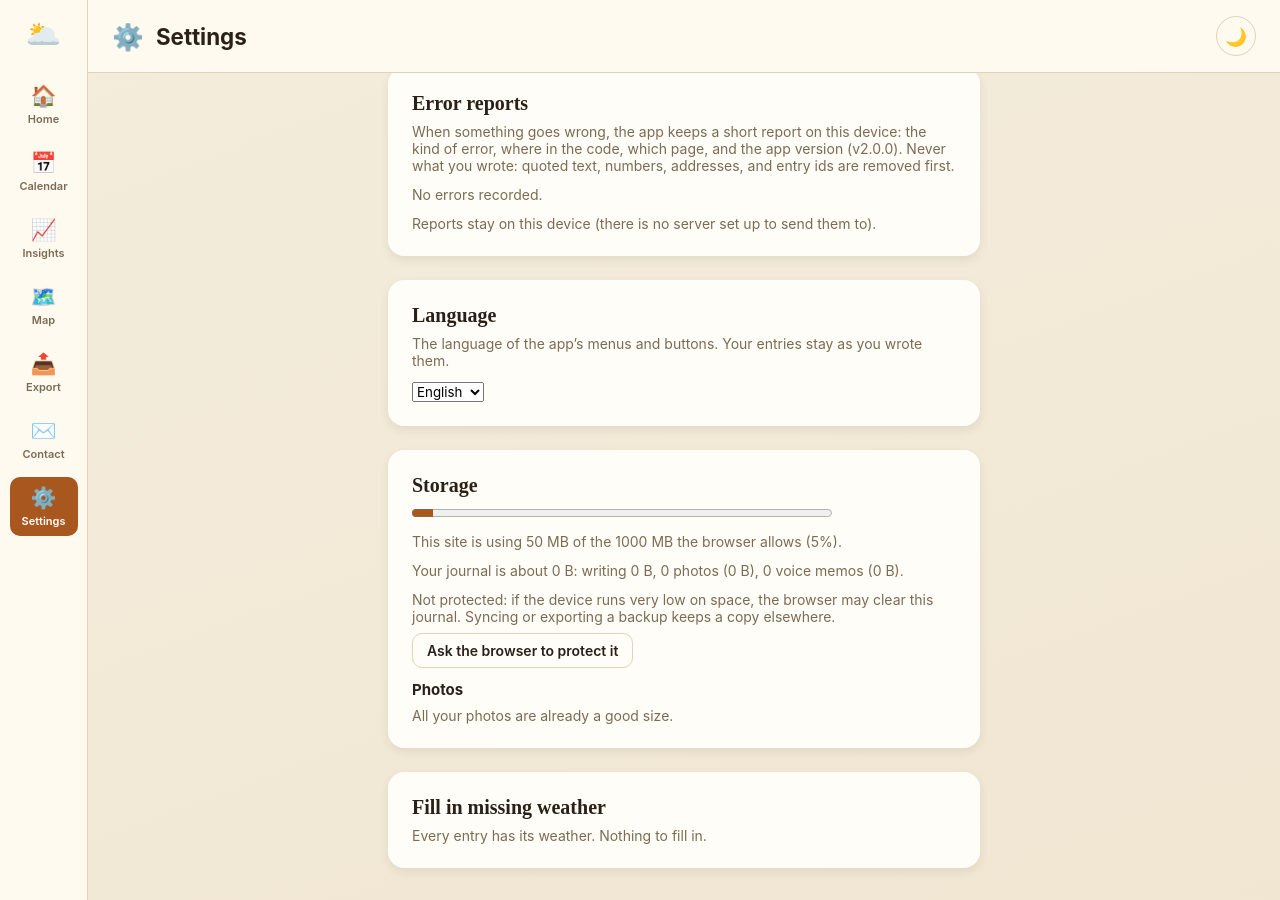
Test: Storage settings › offers to protect the journal from being cleared, and reports the answer
(page scrolled)
Expected: the text "Not protected" is shown, [412,591,933,625]
Click the button "Ask the browser to protect it": (523, 650) [412,633,633,668]
(page scrolled)
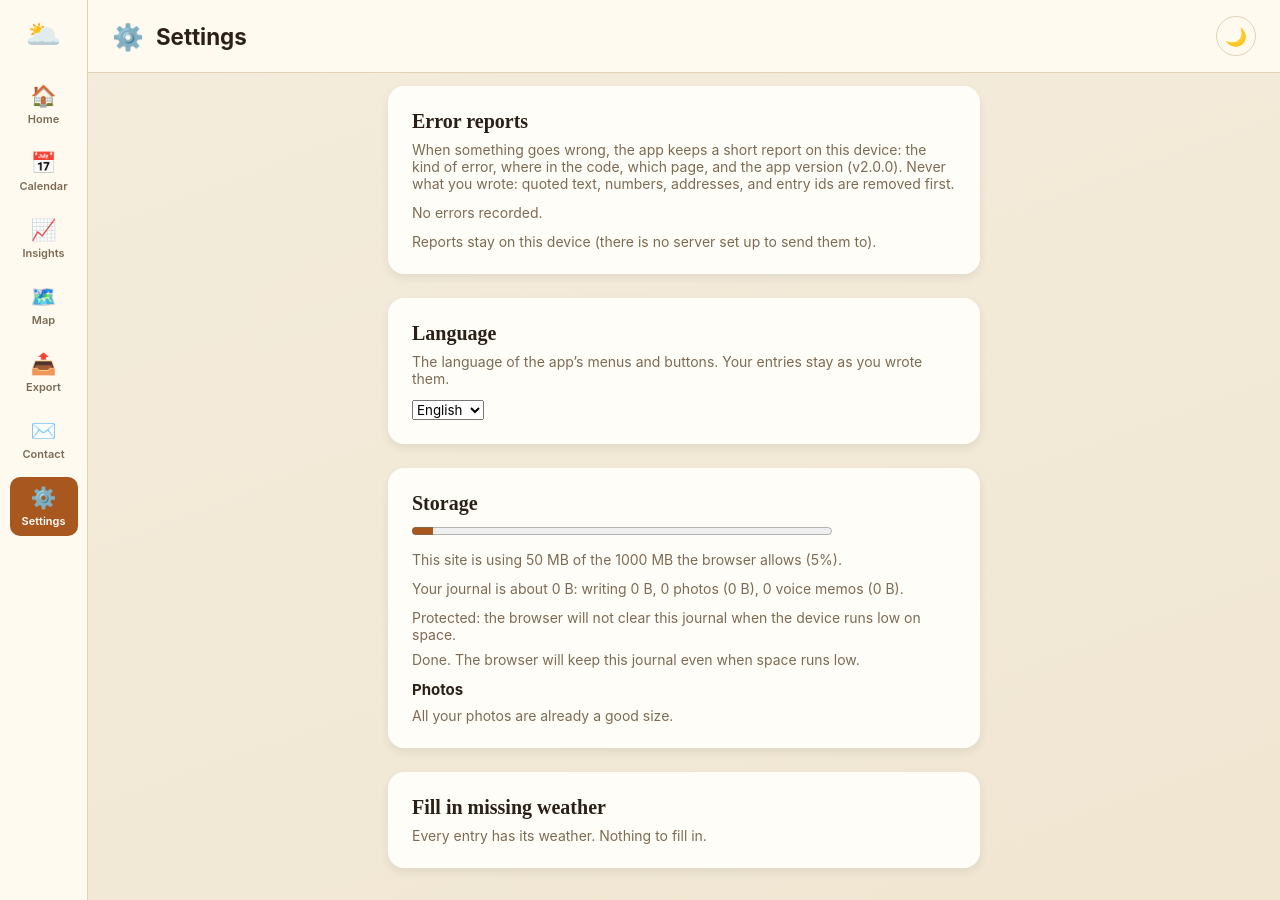
Expected: the text "Done. The browser will keep this journal even when space runs low." is shown, [412,651,860,668]
Expected: the text "Protected:" is shown, [412,609,921,643]
Expected: the button "Ask the browser to protect it" is gone
